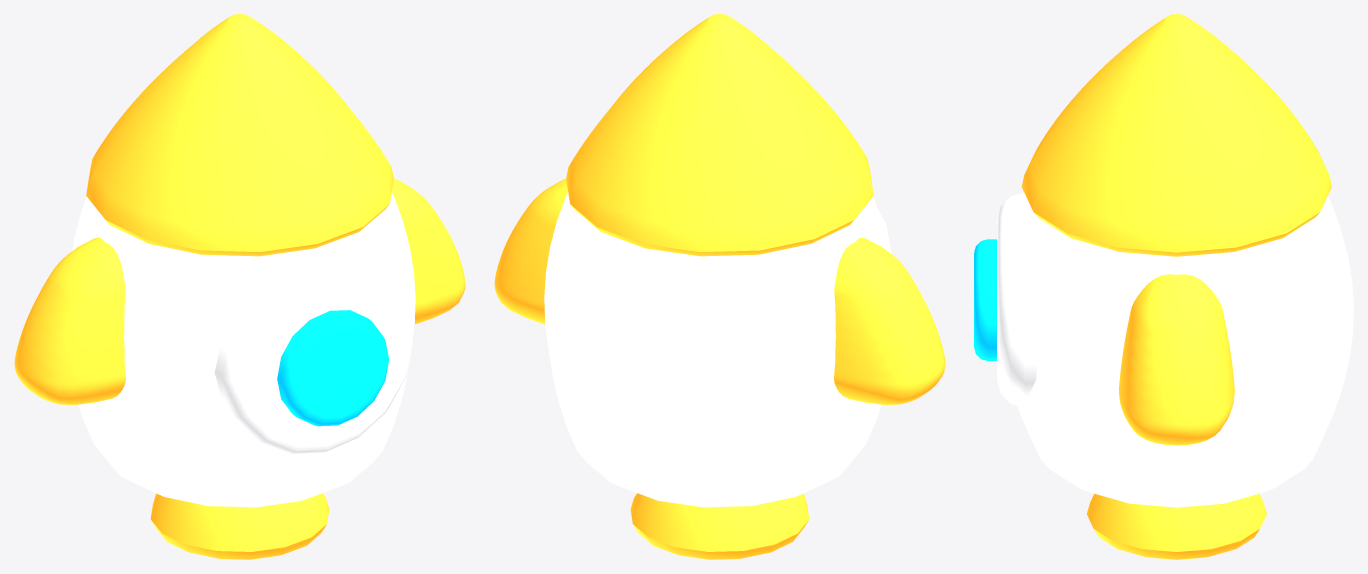
Rendered from rocket.glb.
The picture shows the model from 3 angles, left to right: view 1: azimuth 30°, elevation 25°; view 2: azimuth 150°, elevation 25°; view 3: azimuth 270°, elevation 25°; orthographic projection.
Visible parts, largest first — view 1: Cylinder.1 (×2), Cylinder (×2), Cube, Cone, Cube 1; view 2: Cylinder, Cylinder.1, Cube, Cone, Cube 1; view 3: Cylinder (×2), Cylinder.1 (×2), Cube 1, Cone.
Part boxes in pixels (x1,y1,x2,y2): Cylinder.1 (×2): (86, 14, 412, 456); Cylinder (×2): (72, 192, 415, 507); Cube: (14, 237, 125, 404); Cone: (150, 493, 329, 559); Cube 1: (392, 178, 465, 324); Cylinder: (544, 192, 887, 507); Cylinder.1: (566, 14, 873, 256); Cube: (834, 237, 945, 404); Cone: (630, 493, 809, 559); Cube 1: (494, 178, 567, 324); Cylinder (×2): (974, 196, 1353, 507); Cylinder.1 (×2): (997, 14, 1331, 406); Cube 1: (1119, 274, 1234, 445); Cone: (1087, 493, 1266, 559).
Size of the model in its own units: 2.98 by 3.37 by 2.26.
